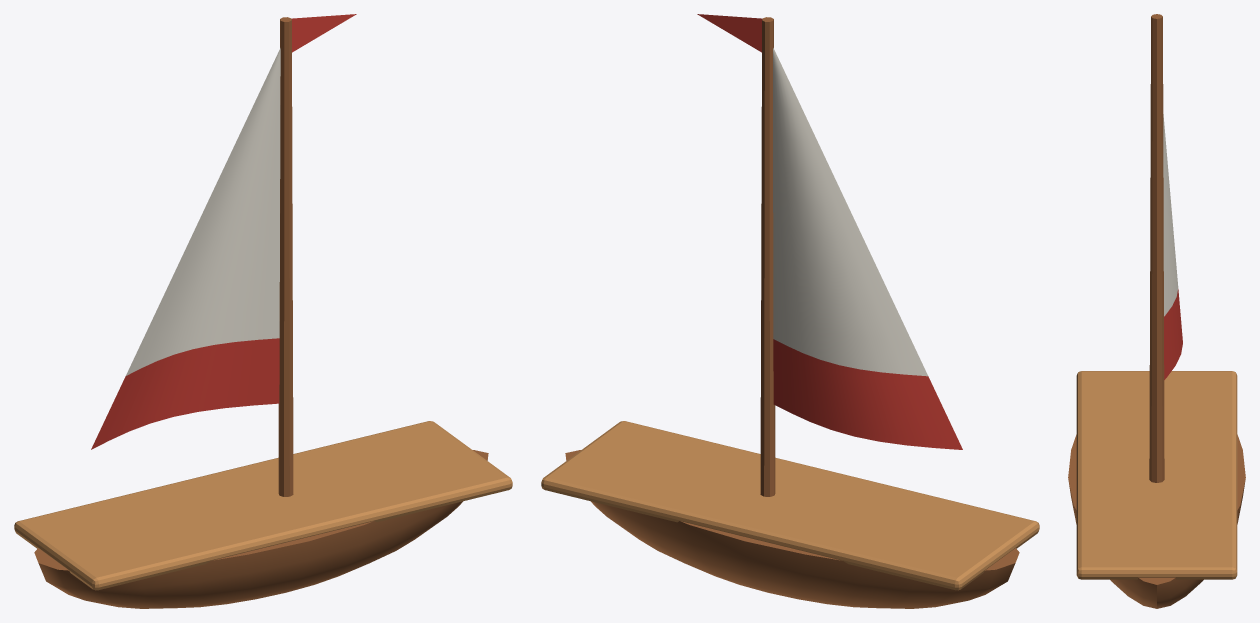
The model's file is sailboat.glb.
3 renders of one model, left to right at view 1: azimuth 30°, elevation 25°; view 2: azimuth 150°, elevation 25°; view 3: azimuth 270°, elevation 25°, orthographic. The views are drawn at different scales.
Parts seen in each view (by area): view 1: Rail, Sail, Hull, SailBand, Mast, Pennant; view 2: Rail, Sail, Hull, SailBand, Mast, Pennant; view 3: Rail, Mast, Hull, Sail, SailBand.
Boxes of the visible parts, x1,y1,x2,y2 form: Rail: (14,421,512,590); Sail: (126,48,280,375); Hull: (34,450,488,608); SailBand: (91,338,279,449); Mast: (278,17,293,496); Pennant: (291,14,356,52); Rail: (541,421,1039,590); Sail: (773,48,927,376); Hull: (565,450,1019,608); SailBand: (773,339,962,449); Mast: (760,17,775,496); Pennant: (697,14,762,52); Rail: (1076,371,1237,579); Mast: (1149,14,1164,482); Hull: (1068,434,1245,608); Sail: (1163,114,1178,316); SailBand: (1164,289,1182,379).
Size of what is drawn, in the model's own units: 6 by 7.15 by 2.1.
